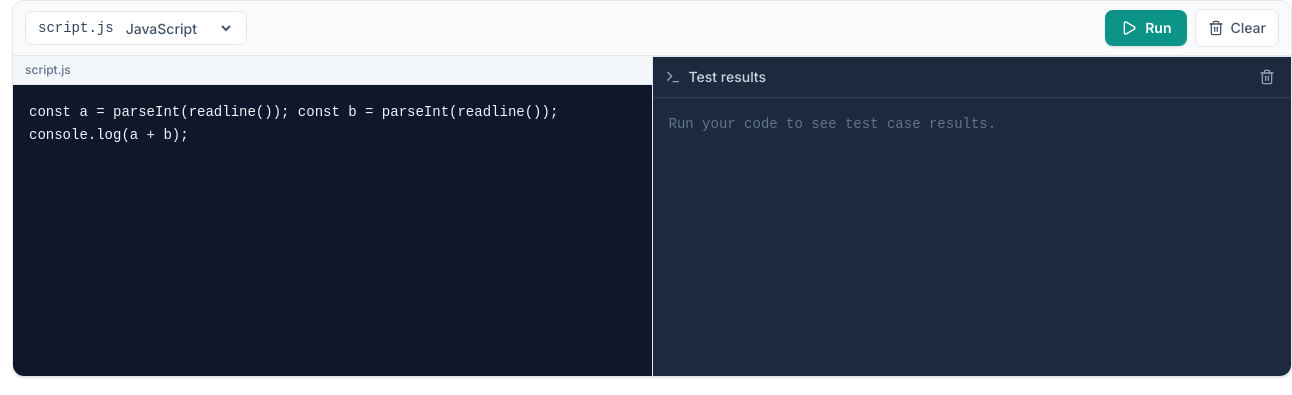
it: CodeBlock › tests mode › runs JavaScript demo test case in tests mode
Click the button "Run".
click(1146, 28)  # box [1105,10,1188,46]
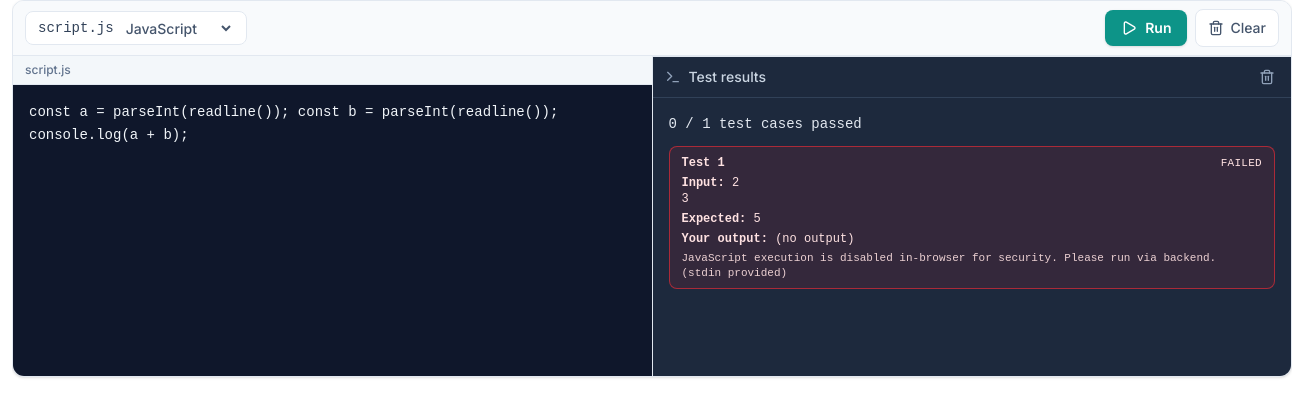
Now the text "test cases passed" is shown, box [710,116,862,132]
